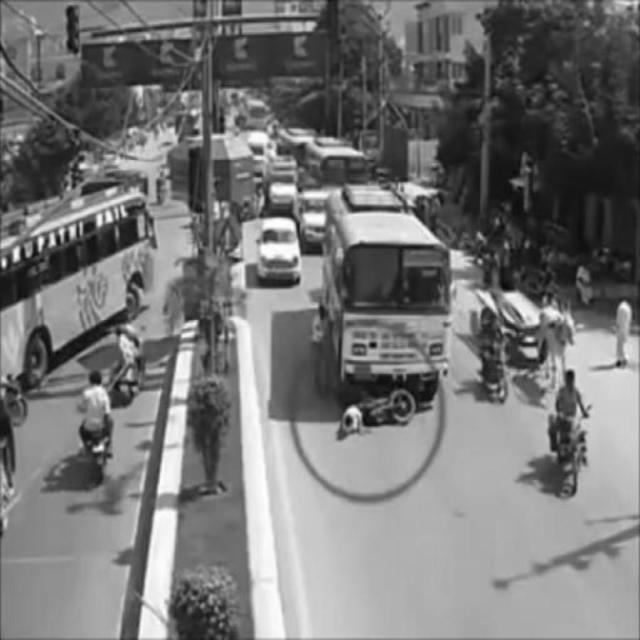accident: (325, 180, 453, 431)
vehicle: (3, 180, 159, 380), (550, 370, 588, 494), (79, 374, 117, 466), (482, 305, 512, 403), (260, 218, 301, 284), (116, 318, 146, 402)
